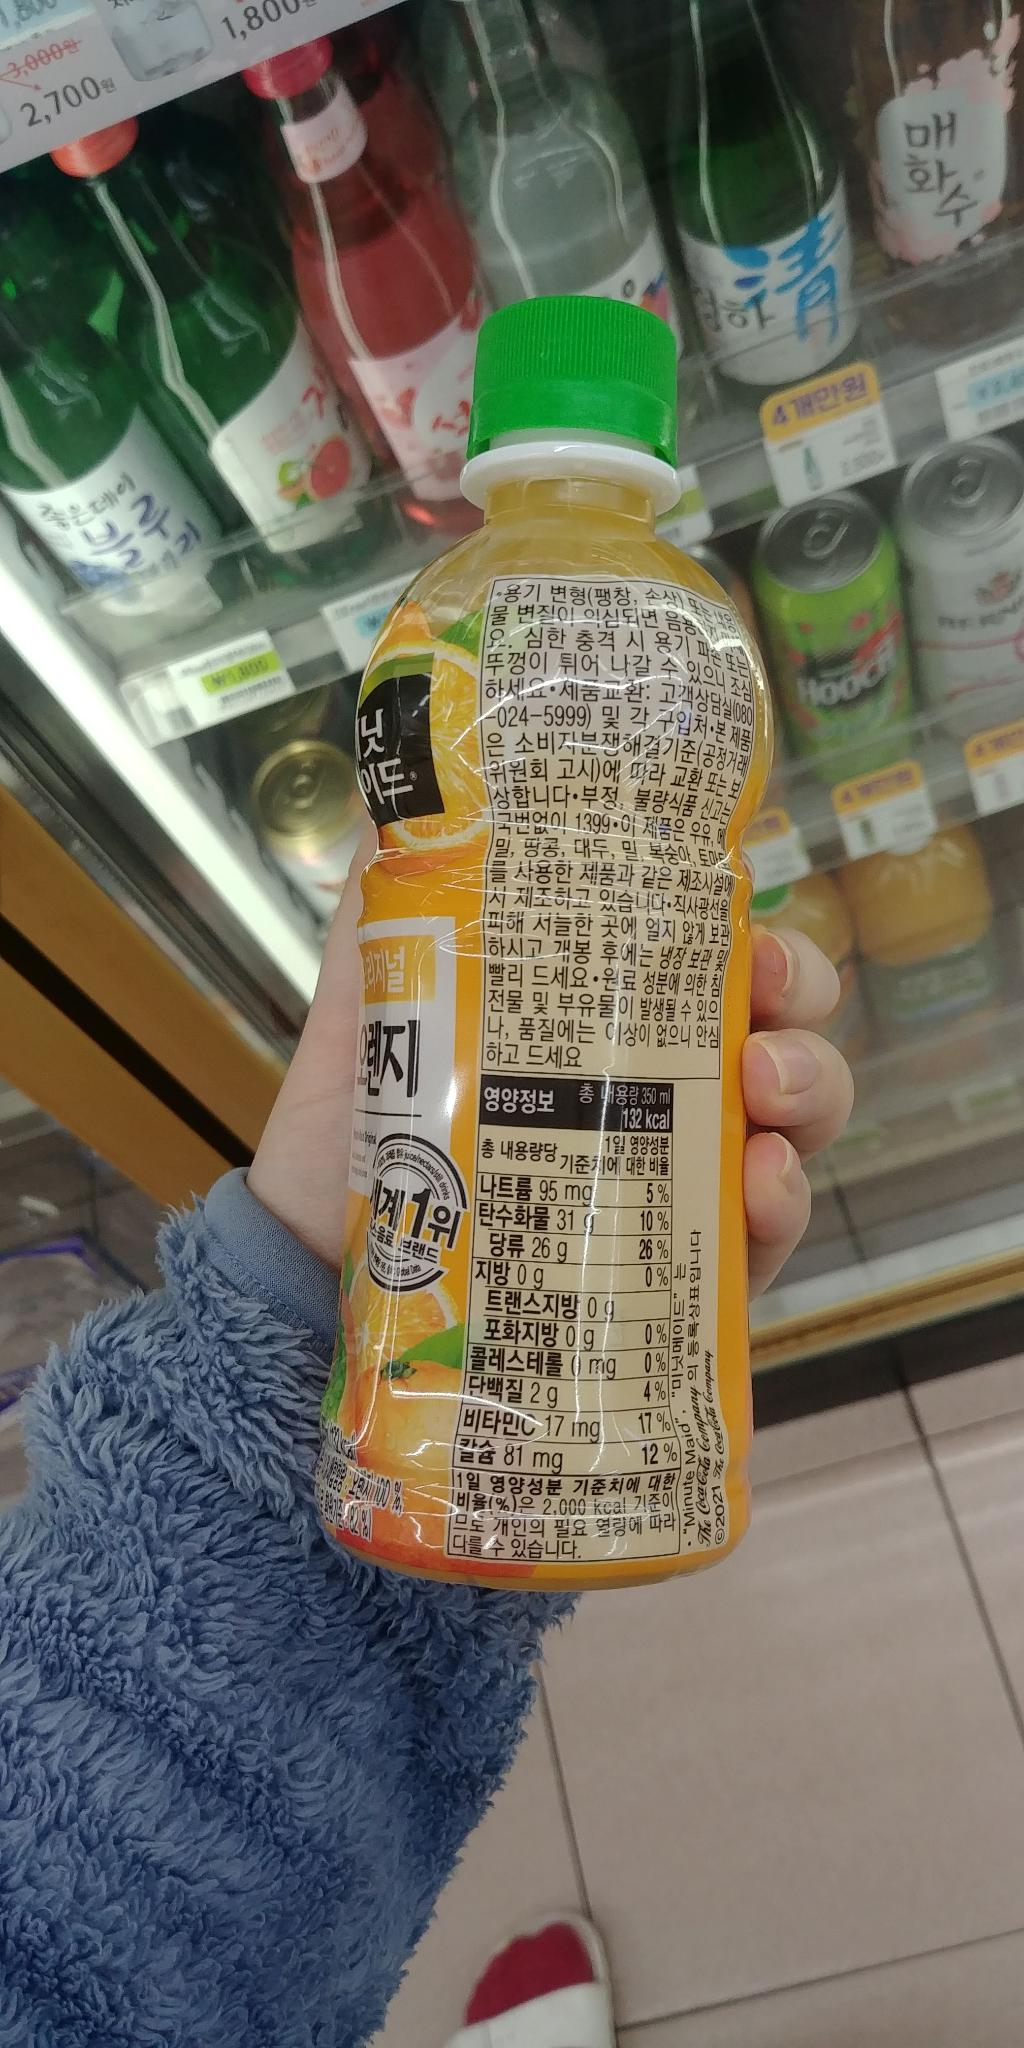minutemaid_org_orange: (320, 283, 781, 1597)
